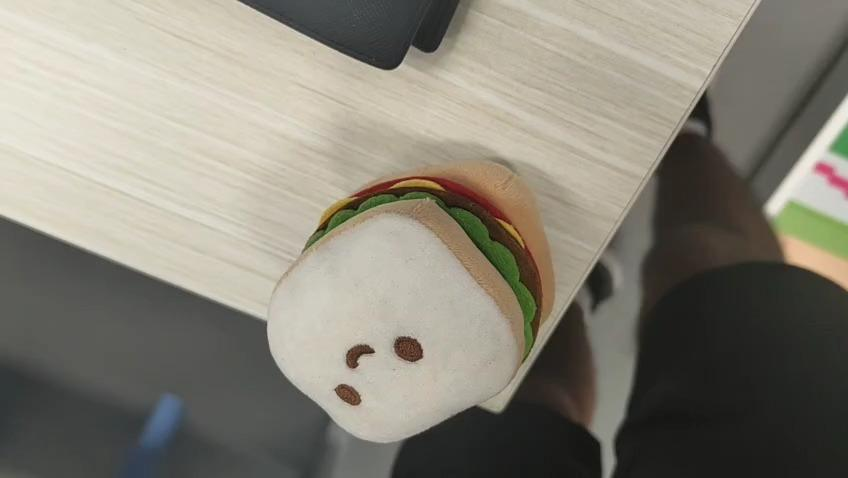objects: (266, 158, 560, 448)
